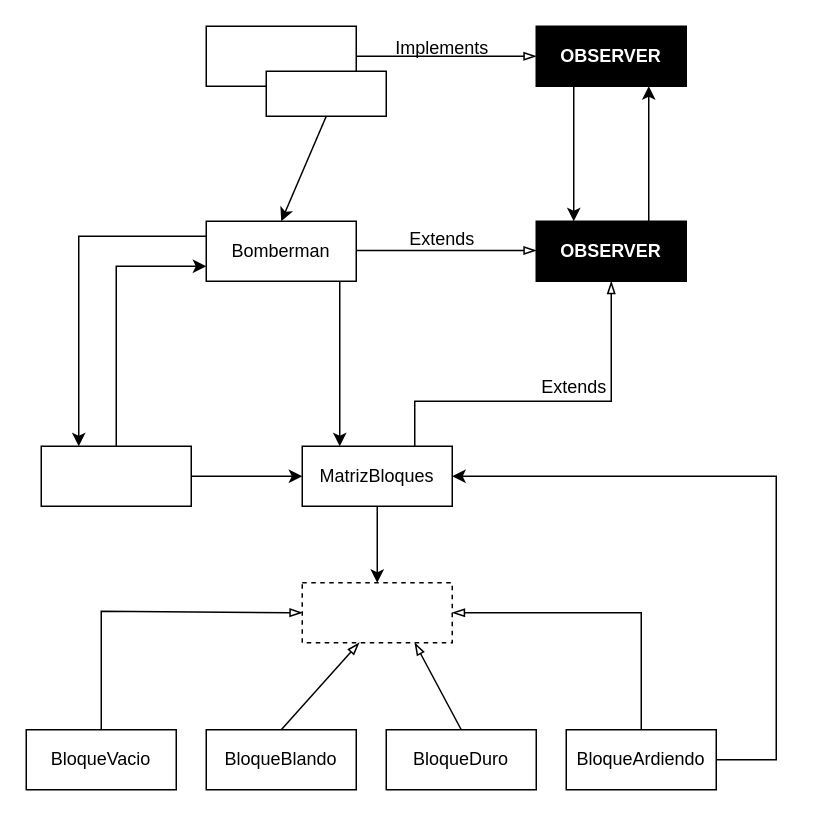
Some shapes in this 815 by 816 pixel diagram are drawn without their labels. The shapes that lost their labels are listed below. From the top down, each one's centre as x and y in pixels, then its label:
(x=280, y=55): MainFrame
(x=325, y=93): Controlador
(x=115, y=475): Bomba
(x=376, y=612): Bloque
